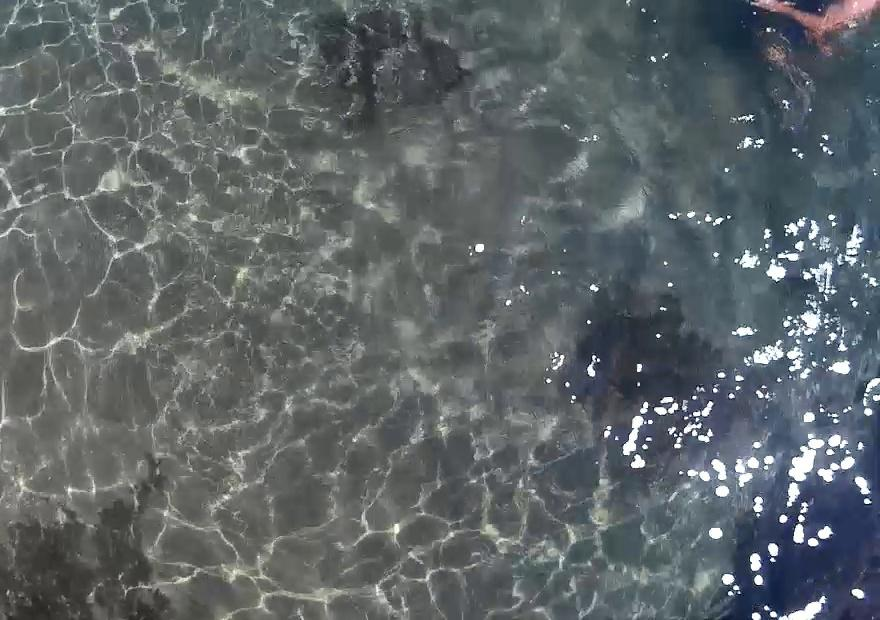swimmer: (728, 0, 874, 95)
